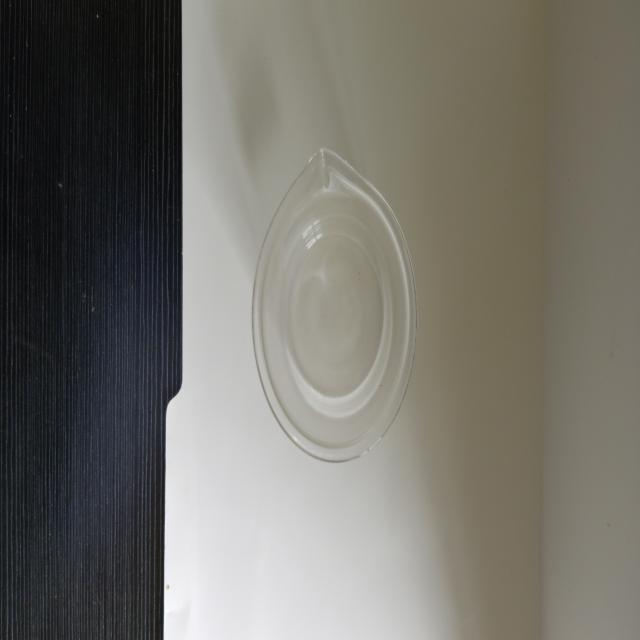beaker: (246, 139, 423, 476)
